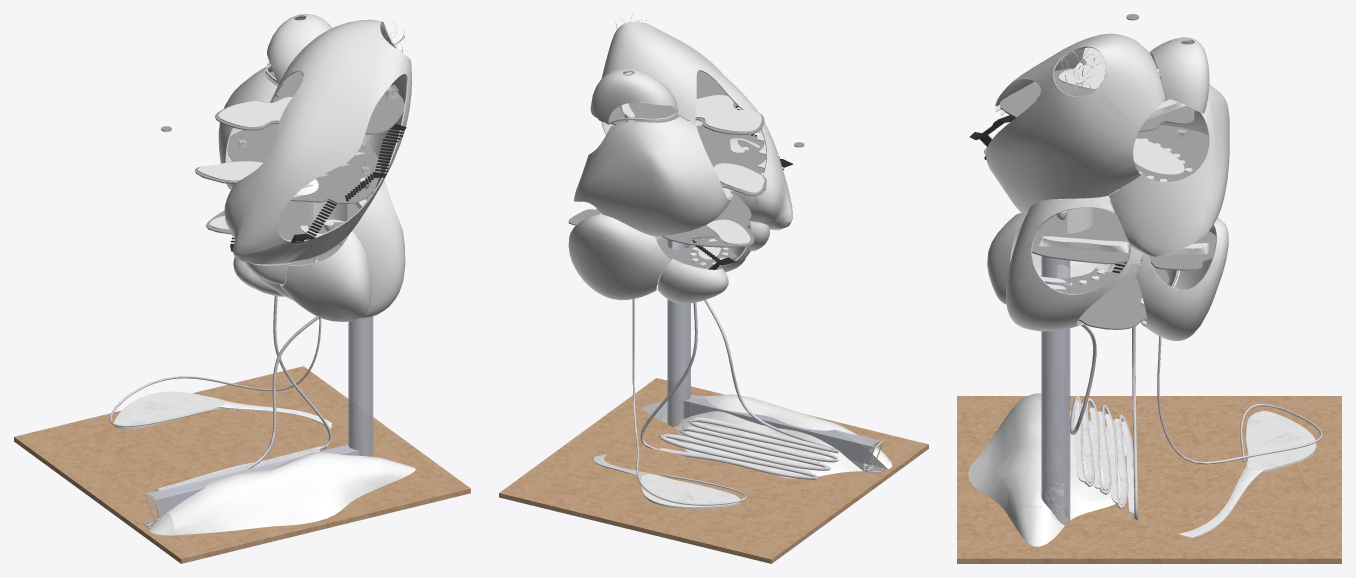
3 renders of one model, left to right at view 1: azimuth 30°, elevation 25°; view 2: azimuth 150°, elevation 25°; view 3: azimuth 270°, elevation 25°, orthographic. The views are drawn at different scales.
Visible parts, largest first — view 1: srf - Copy, Z11 - Copy, topos, katsextru - Asansordelikle, ELEV, EXTR, GF PLATFORMS, PIPE, merdiven; view 2: srf - Copy, Z11 - Copy, katsextru - Asansordelikle, PIPE, topos, ELEV, GF PLATFORMS, EXTR; view 3: srf - Copy, Z11 - Copy, katsextru - Asansordelikle, topos, GF PLATFORMS, ELEV, EXTR, PIPE, ELEV-PLN 1.
Part boxes in pixels (x1,y1,x2,y2): srf - Copy: (144,14,411,519); Z11 - Copy: (14,366,470,563); topos: (149,452,415,535); katsextru - Asansordelikle: (195,69,404,285); ELEV: (147,316,373,519); EXTR: (198,71,370,280); GF PLATFORMS: (114,391,331,486); PIPE: (109,296,331,491); merdiven: (230,124,406,251); srf - Copy: (568,21,883,471); Z11 - Copy: (499,378,928,563); katsextru - Asansordelikle: (568,71,766,284); PIPE: (632,299,838,505); topos: (642,394,892,478); ELEV: (667,239,880,471); GF PLATFORMS: (594,417,830,508); EXTR: (600,95,766,265); srf - Copy: (986,33,1229,340); Z11 - Copy: (957,396,1341,563); katsextru - Asansordelikle: (984,48,1215,329); topos: (968,393,1126,546); GF PLATFORMS: (1074,400,1316,537); ELEV: (1041,256,1070,525); EXTR: (995,47,1209,305); PIPE: (1070,324,1322,520); ELEV-PLN 1: (1045,483,1063,512).
Bounding box in the file's own units: 32 × 45.85 × 32.
Materials: 30 (4 with a texture image).
